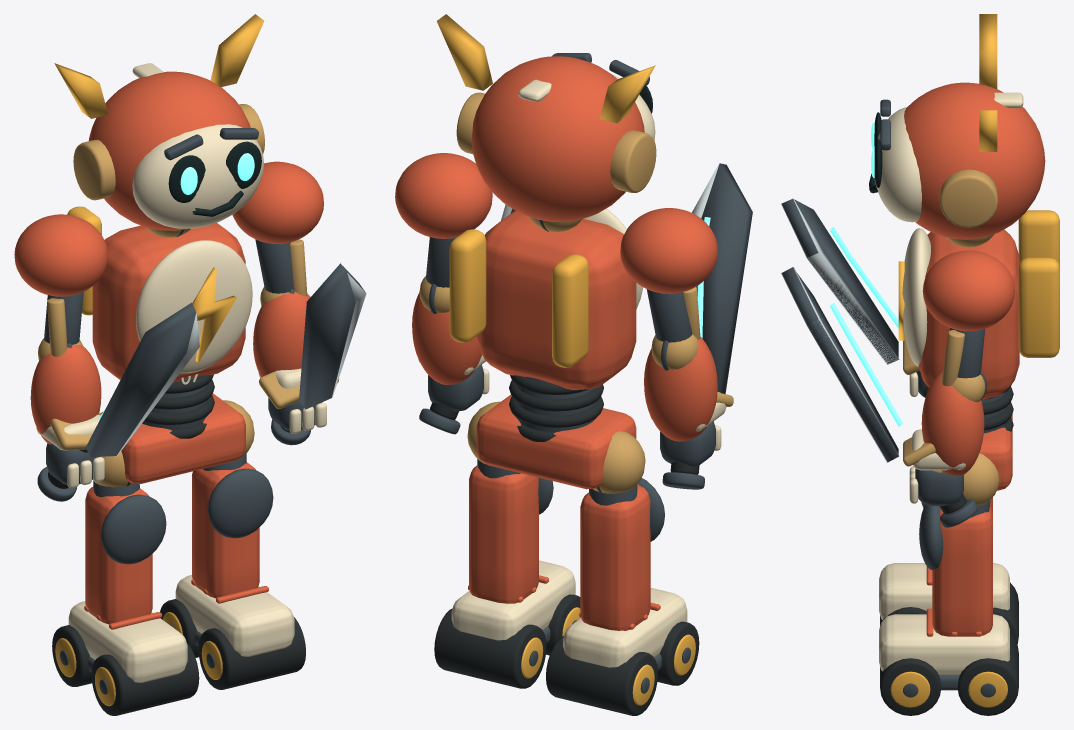
Rendered from roller_daredevil.t3.glb.
The picture shows the model from 3 angles, left to right: view 1: azimuth 30°, elevation 25°; view 2: azimuth 150°, elevation 25°; view 3: azimuth 270°, elevation 25°; orthographic projection. The views are drawn at different scales.
Visible parts, largest first — view 1: slot_torso.001__clay_vermilion__clay, slot_head.001__clay_vermilion__clay, slot_torso.001__clay_warm_ivory__clay, weapon_left__forged_bluelead_steel__protected, slot_head.001__clay_warm_ivory__clay, slot_armL.001__clay_vermilion__clay, weapon_right.001__forged_bluelead_steel__protected, slot_legL.001__clay_vermilion__clay, slot_legR.001__clay_vermilion__clay, slot_armR.001__clay_vermilion__clay, slot_legR.001__clay_warm_ivory__clay, slot_legL.001__clay_warm_ivory__clay (+30 smaller); view 2: slot_torso.001__clay_vermilion__clay, slot_head.001__clay_vermilion__clay, slot_legL.001__clay_vermilion__clay, slot_legR.001__clay_vermilion__clay, slot_torso.001__clay_saffron__protected, weapon_left__forged_bluelead_steel__protected, slot_armL.001__clay_vermilion__clay, slot_armR.001__clay_vermilion__clay, slot_legL.001__charcoal_rubber__protected, slot_legR.001__charcoal_rubber__protected, armL_elbow.001__clay_vermilion__clay, slot_legL.001__clay_warm_ivory__clay (+19 smaller); view 3: slot_head.001__clay_vermilion__clay, slot_torso.001__clay_vermilion__clay, slot_legR.001__clay_vermilion__clay, slot_torso.001__clay_saffron__protected, slot_armR.001__clay_vermilion__clay, slot_legR.001__clay_warm_ivory__clay, weapon_right.001__forged_bluelead_steel__protected, armR_elbow.001__clay_vermilion__clay, weapon_left__forged_bluelead_steel__protected, slot_legR.001__charcoal_rubber__protected, slot_head.001__clay_warm_ivory__clay, slot_legL.001__clay_warm_ivory__clay (+19 smaller).
Boxes of the visible parts, bbox=[...] form: slot_torso.001__clay_vermilion__clay: bbox=[92, 223, 245, 483]; slot_head.001__clay_vermilion__clay: bbox=[89, 71, 250, 230]; slot_torso.001__clay_warm_ivory__clay: bbox=[136, 240, 252, 373]; weapon_left__forged_bluelead_steel__protected: bbox=[37, 302, 196, 501]; slot_head.001__clay_warm_ivory__clay: bbox=[132, 124, 263, 228]; slot_armL.001__clay_vermilion__clay: bbox=[14, 214, 107, 296]; weapon_right.001__forged_bluelead_steel__protected: bbox=[271, 263, 364, 445]; slot_legL.001__clay_vermilion__clay: bbox=[85, 486, 152, 624]; slot_legR.001__clay_vermilion__clay: bbox=[192, 462, 259, 598]; slot_armR.001__clay_vermilion__clay: bbox=[232, 161, 323, 243]; slot_legR.001__clay_warm_ivory__clay: bbox=[175, 575, 294, 656]; slot_legL.001__clay_warm_ivory__clay: bbox=[68, 601, 187, 682]; slot_torso.001__clay_vermilion__clay: bbox=[476, 211, 636, 489]; slot_head.001__clay_vermilion__clay: bbox=[472, 56, 644, 221]; slot_legL.001__clay_vermilion__clay: bbox=[580, 484, 650, 630]; slot_legR.001__clay_vermilion__clay: bbox=[469, 465, 538, 603]; slot_torso.001__clay_saffron__protected: bbox=[449, 229, 588, 367]; weapon_left__forged_bluelead_steel__protected: bbox=[662, 163, 752, 489]; slot_armL.001__clay_vermilion__clay: bbox=[620, 208, 717, 293]; slot_armR.001__clay_vermilion__clay: bbox=[395, 153, 492, 238]; slot_legL.001__charcoal_rubber__protected: bbox=[546, 621, 699, 715]; slot_legR.001__charcoal_rubber__protected: bbox=[434, 594, 580, 688]; armL_elbow.001__clay_vermilion__clay: bbox=[644, 336, 717, 441]; slot_legL.001__clay_warm_ivory__clay: bbox=[563, 587, 687, 667]; slot_head.001__clay_vermilion__clay: bbox=[904, 82, 1045, 239]; slot_torso.001__clay_vermilion__clay: bbox=[918, 229, 1019, 490]; slot_legR.001__clay_vermilion__clay: bbox=[932, 506, 992, 636]; slot_torso.001__clay_saffron__protected: bbox=[898, 210, 1059, 357]; slot_armR.001__clay_vermilion__clay: bbox=[922, 250, 1014, 331]; slot_legR.001__clay_warm_ivory__clay: bbox=[879, 614, 1009, 675]; weapon_right.001__forged_bluelead_steel__protected: bbox=[782, 267, 977, 527]; armR_elbow.001__clay_vermilion__clay: bbox=[921, 372, 984, 475]; weapon_left__forged_bluelead_steel__protected: bbox=[782, 198, 898, 364]; slot_legR.001__charcoal_rubber__protected: bbox=[880, 634, 1018, 715]; slot_head.001__clay_warm_ivory__clay: bbox=[874, 107, 921, 222]; slot_legL.001__clay_warm_ivory__clay: bbox=[879, 563, 1009, 619].
Size of the model in its own units: 1.39 by 2.78 by 1.15.
